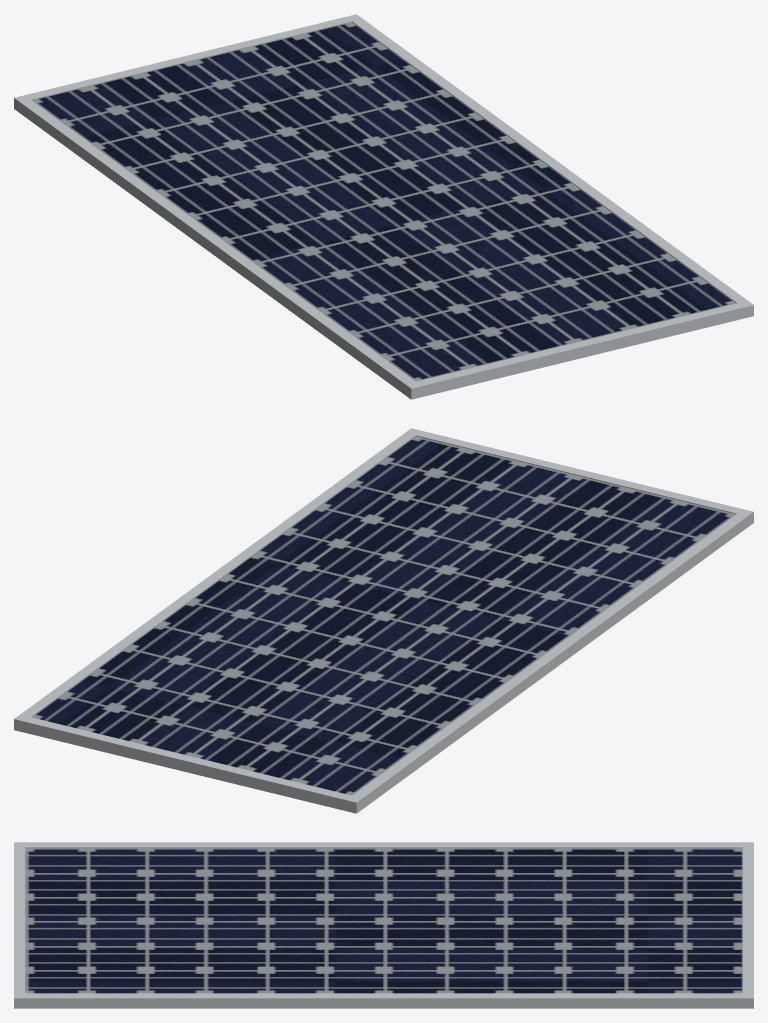
Rendered from modulo_fv.glb.
3 renders of one model, top to bottom at view 1: azimuth 30°, elevation 25°; view 2: azimuth 150°, elevation 25°; view 3: azimuth 270°, elevation 25°, orthographic. The views are drawn at different scales.
Parts seen in each view (by area): view 1: Módulo FV 550 Wp; view 2: Módulo FV 550 Wp; view 3: Módulo FV 550 Wp.
Boxes of the visible parts, <box> form: Módulo FV 550 Wp: <box>14,14,753,399</box>; Módulo FV 550 Wp: <box>14,428,753,813</box>; Módulo FV 550 Wp: <box>14,842,753,1008</box>.
Size of the model in its own units: 1.13 by 0.035 by 2.28.
Materials: 3 (1 with a texture image).
